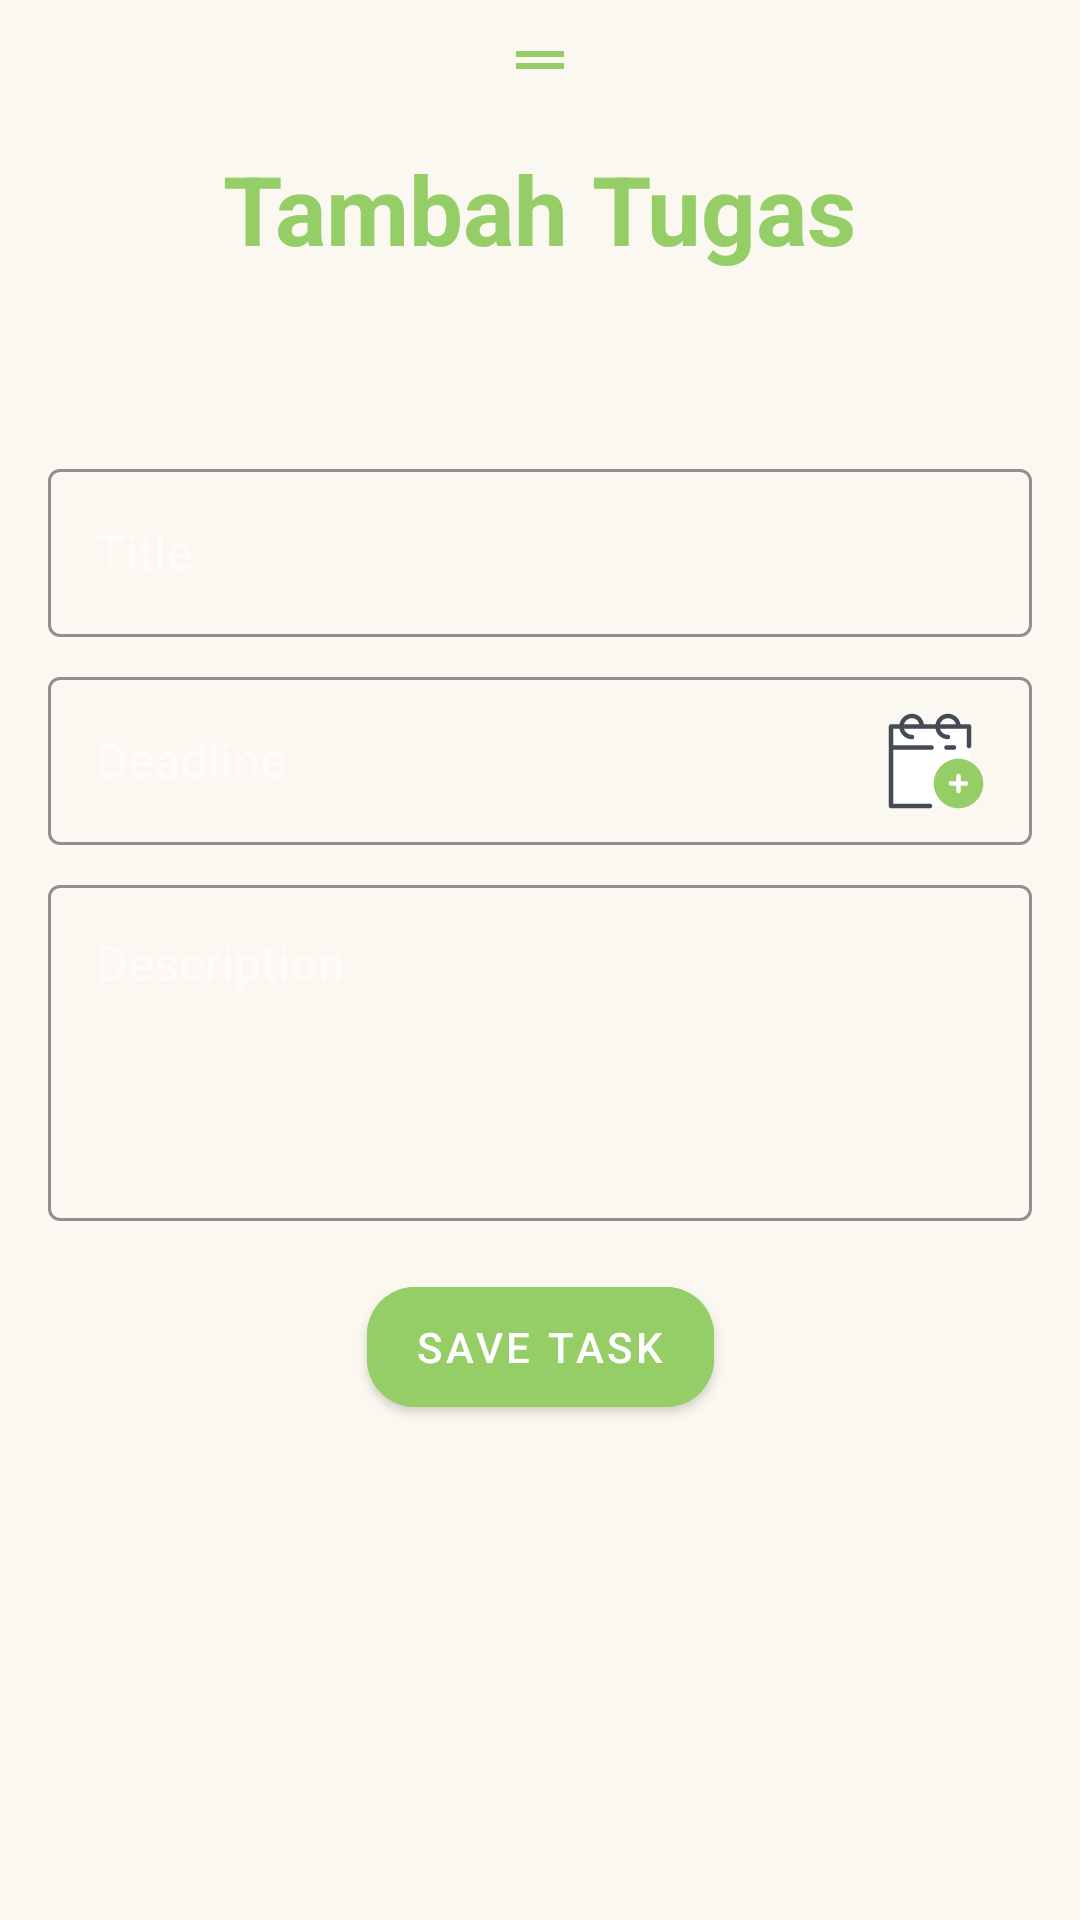

Screen size 1080w x 1920h. Icon name, then its box in pixels as (x1,y1,x2,y2):
drag handle: (516,51,564,69)
